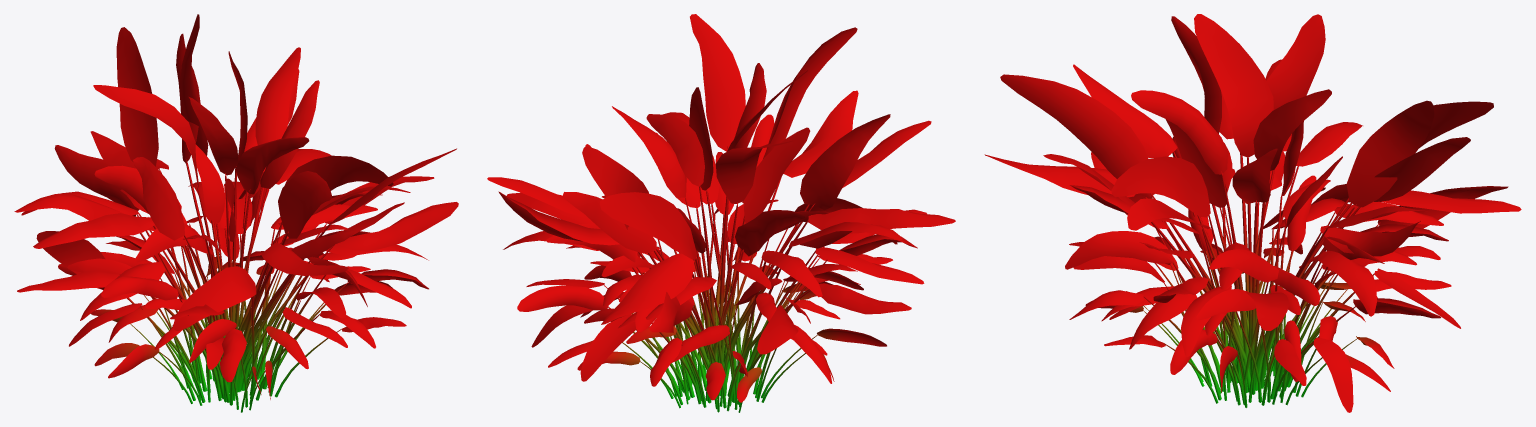
The model's file is Bird Of Paradise_LOD4_Var4_wfypeifha.fbx.
3 views of the same model, side by side, from view 1: azimuth 30°, elevation 25°; view 2: azimuth 150°, elevation 25°; view 3: azimuth 270°, elevation 25° (orthographic). The views are drawn at different scales.
Visible parts, largest first — view 1: _5jqg_Var4_LOD4; view 2: _5jqg_Var4_LOD4; view 3: _5jqg_Var4_LOD4.
Part boxes in pixels (x1,y1,x2,y2): _5jqg_Var4_LOD4: (14,14,458,412); _5jqg_Var4_LOD4: (487,14,955,412); _5jqg_Var4_LOD4: (984,14,1521,412).
Bounding box in the file's own units: 213 × 156 × 222.
